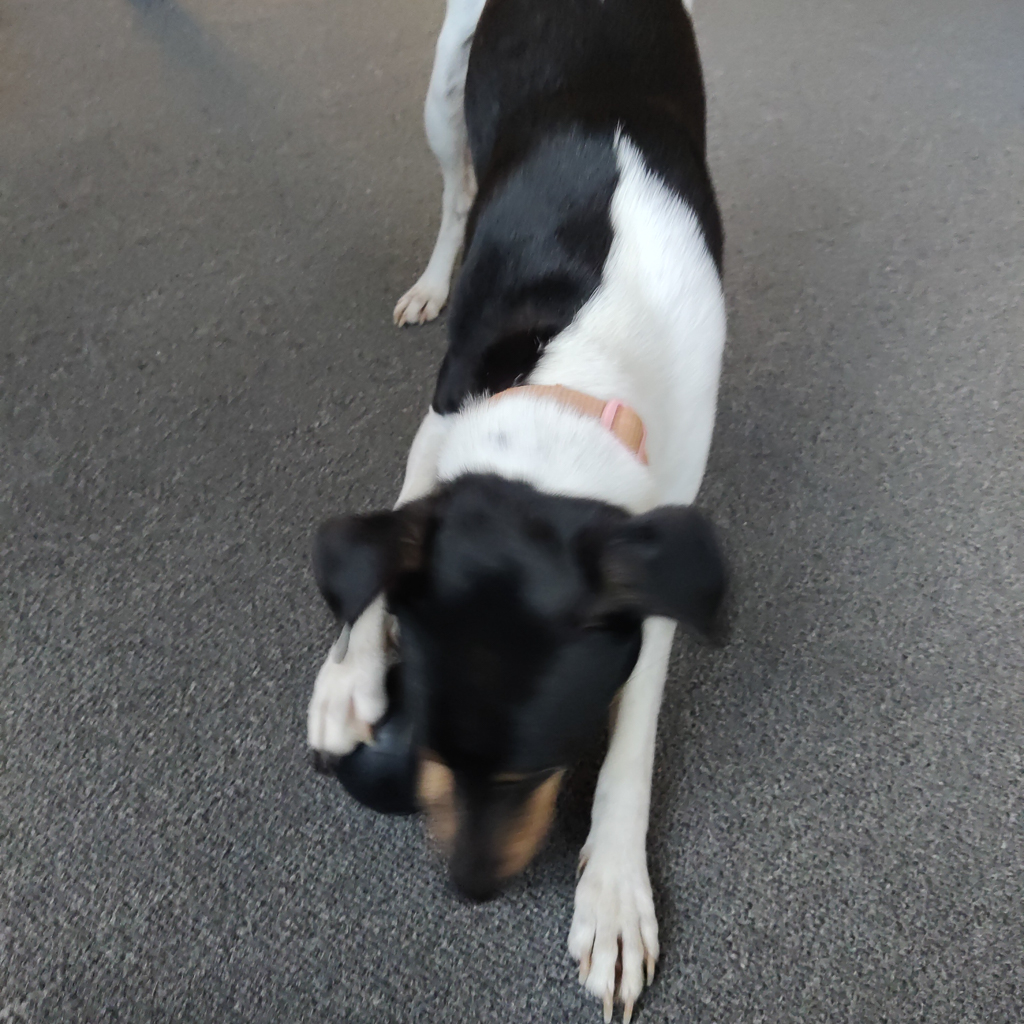Dog: (272, 0, 779, 1024)
